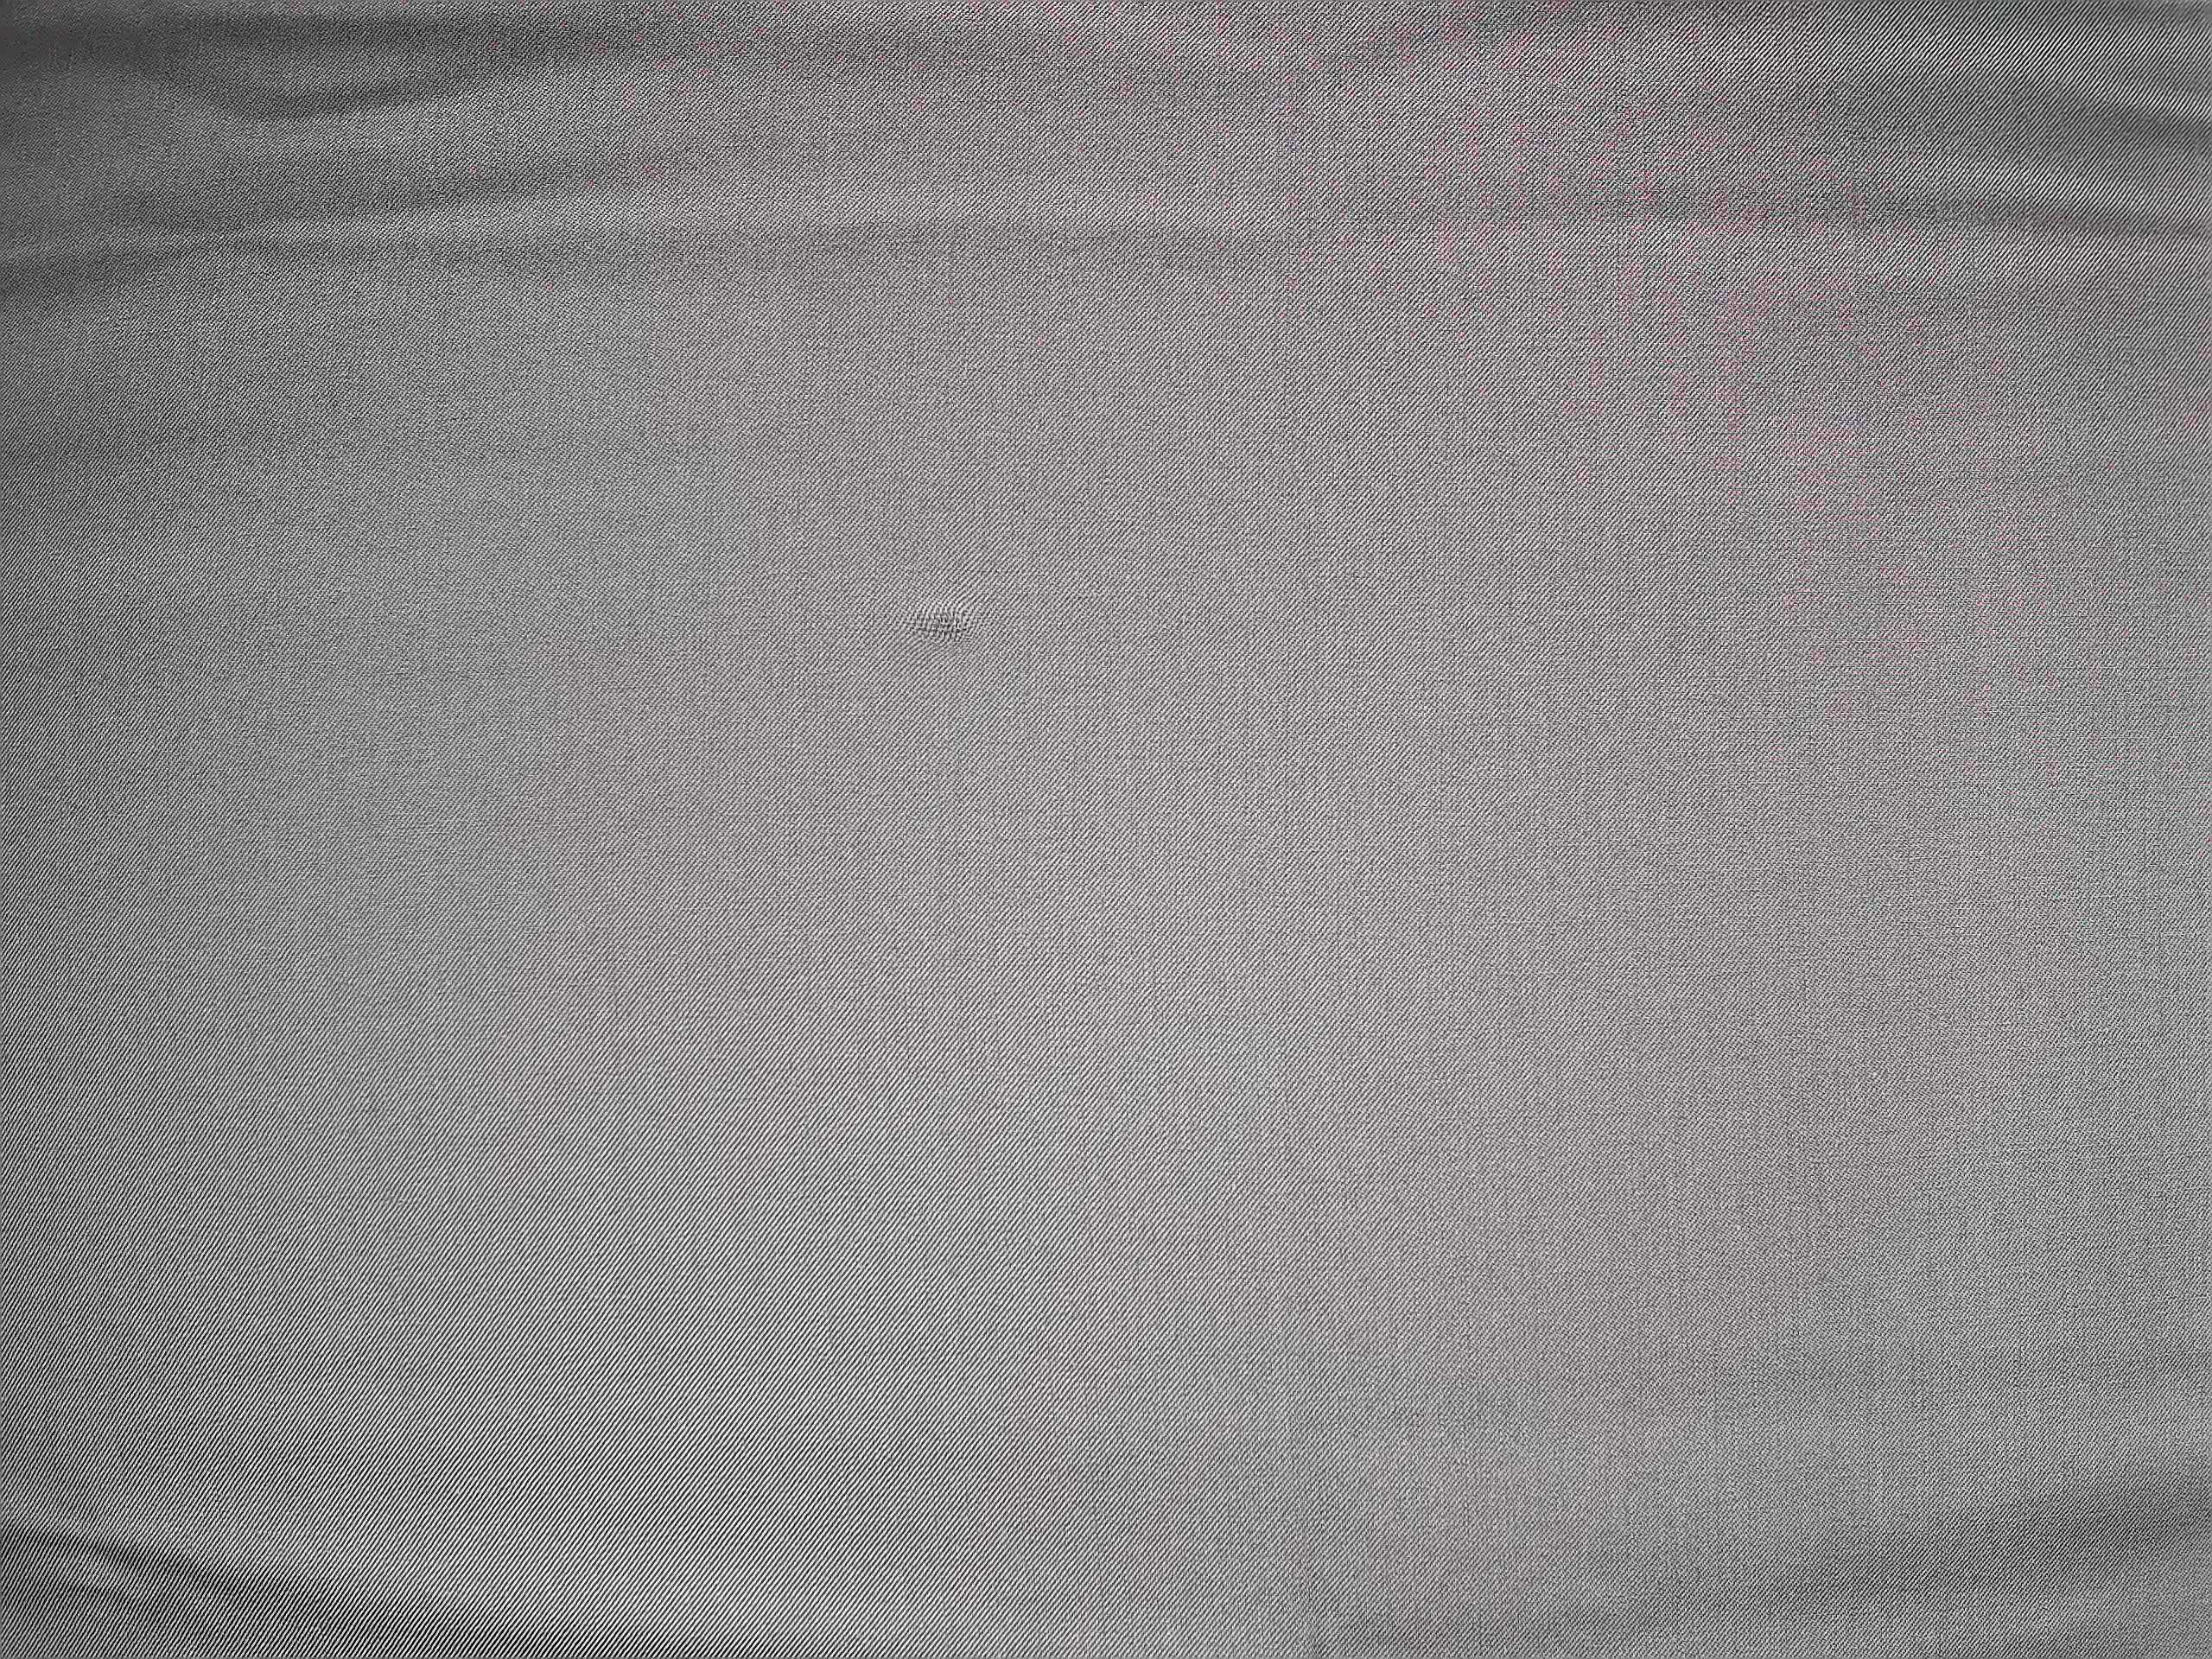thin-spinning: (878, 582, 998, 660)
